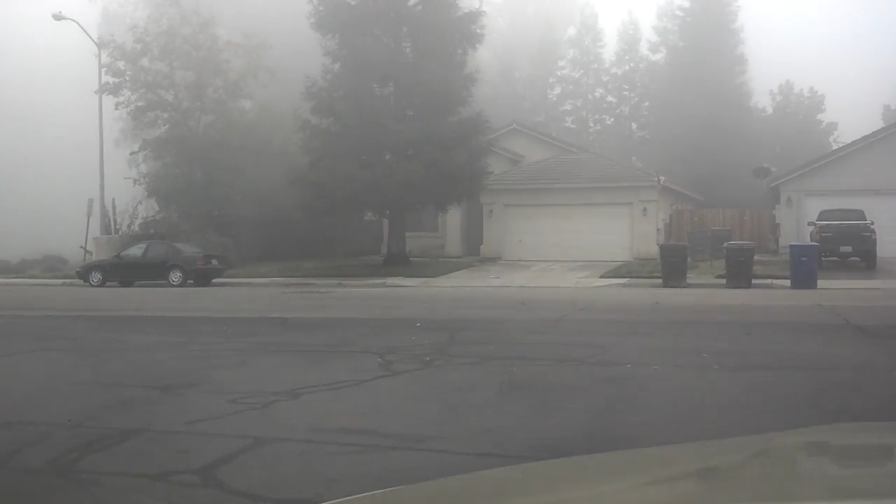car: (75, 238, 231, 288), (806, 207, 878, 269)
